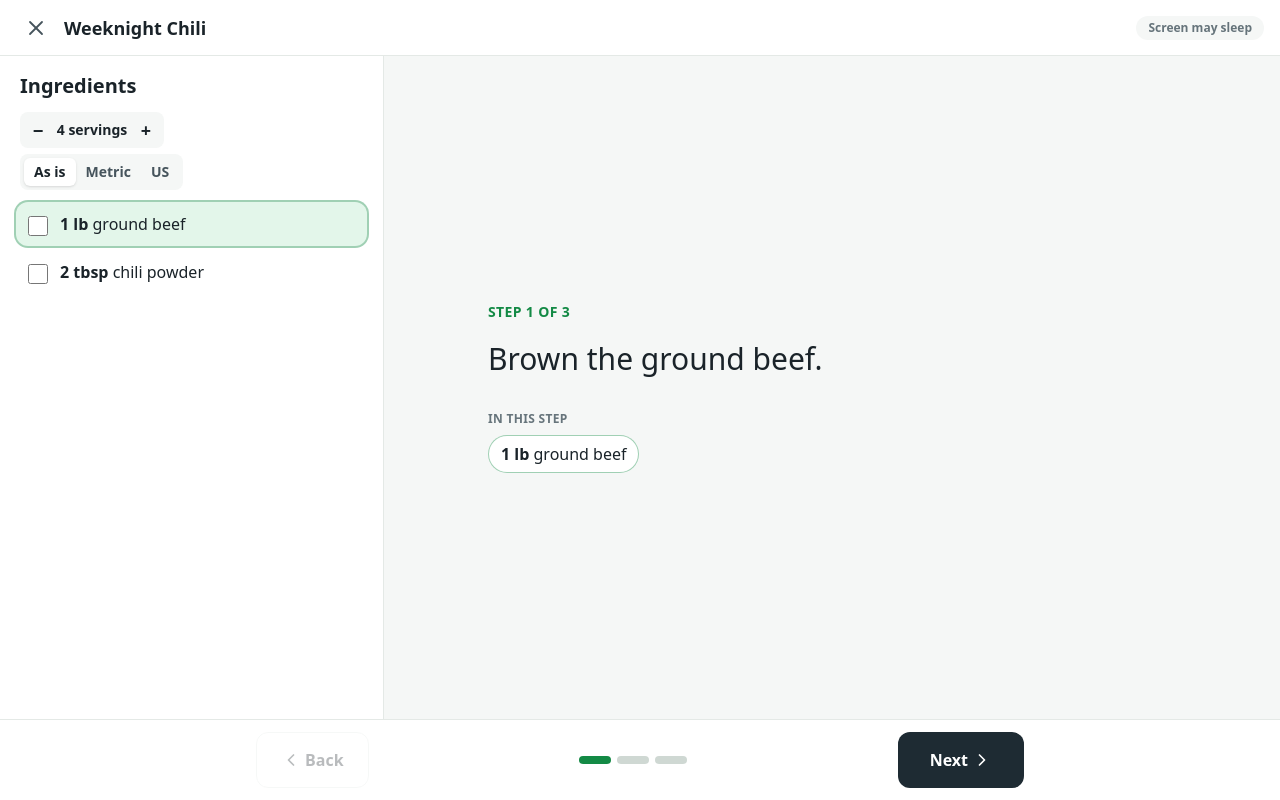
Test: Cook Mode › walks the steps with Next and Back, and Done shows the finish
expect the text "Step 1 of 3" is shown: met, box [488,302,570,321]
expect the text "Brown the ground beef." is shown: met, box [488,338,823,379]
Click the button "Next" at {"x": 961, "y": 760}, box [898,732,1024,788]
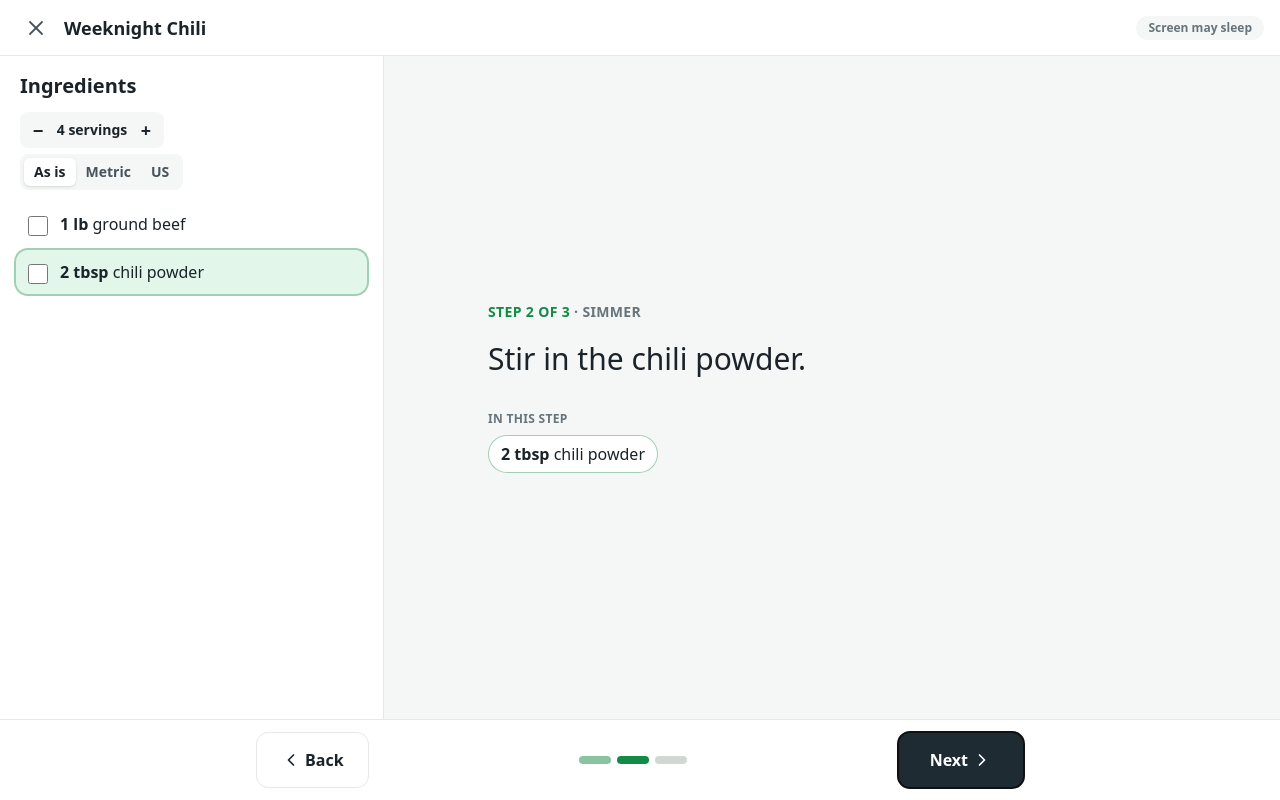
expect the text "Step 2 of 3 · Simmer" is shown: met, box [488,302,641,321]
Click the button "Back" at {"x": 312, "y": 760}, box [256,732,369,788]
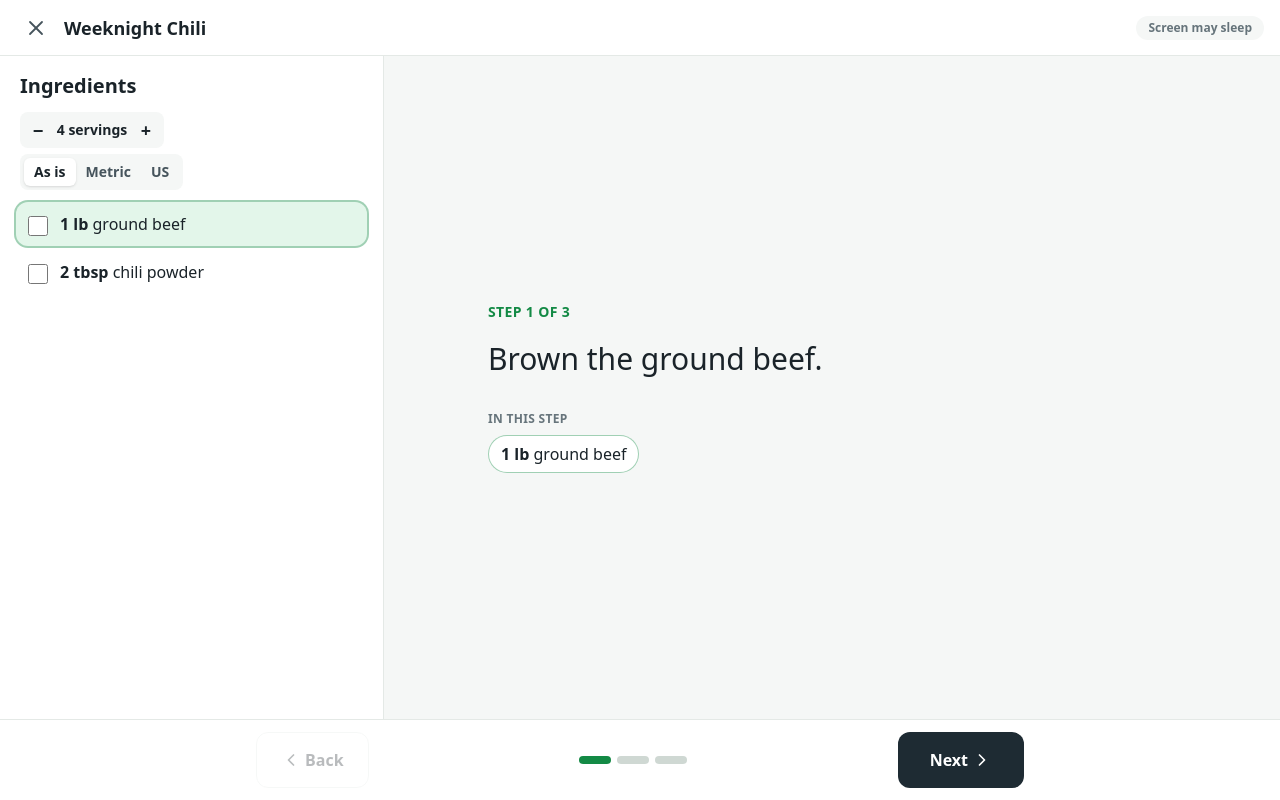
expect the text "Step 1 of 3" is shown: met, box [488,302,570,321]
Click the button "Next" at {"x": 961, "y": 760}, box [898,732,1024,788]
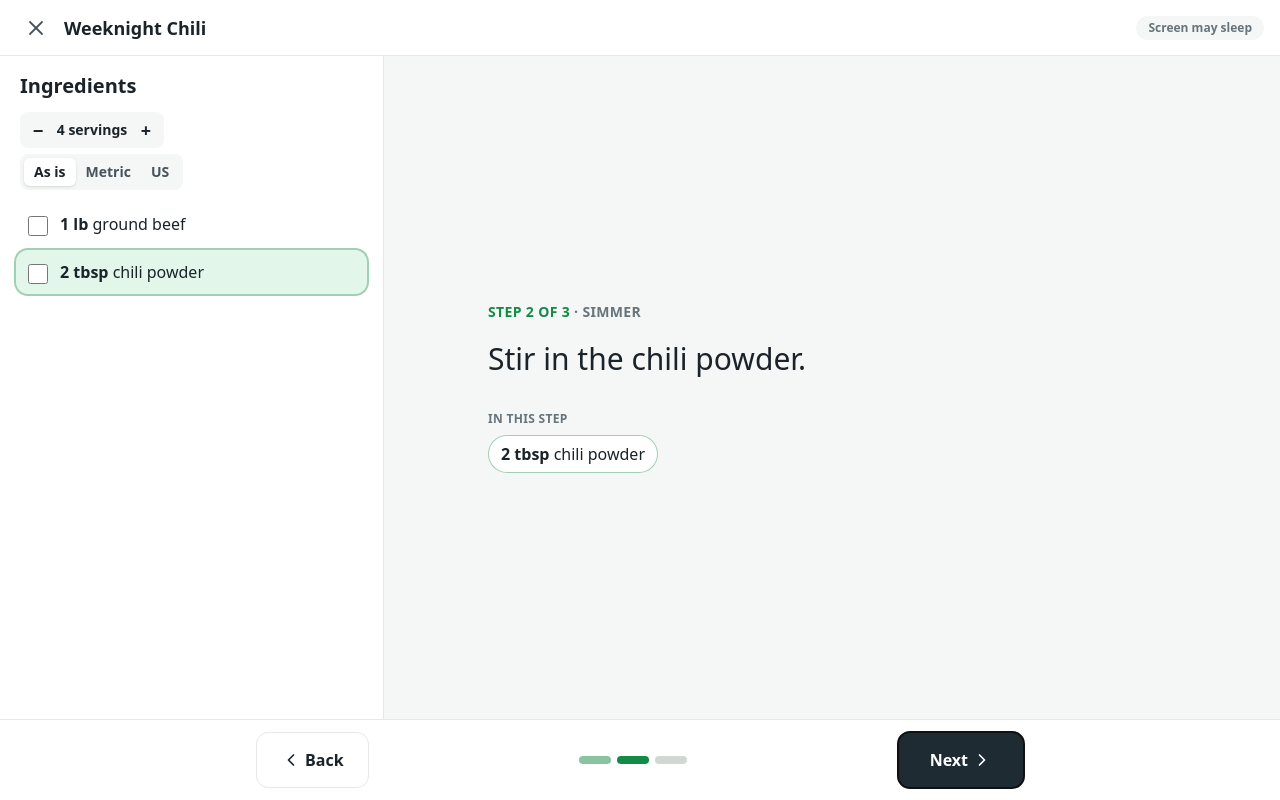
Click the button "Next" at {"x": 961, "y": 760}, box [898,732,1024,788]
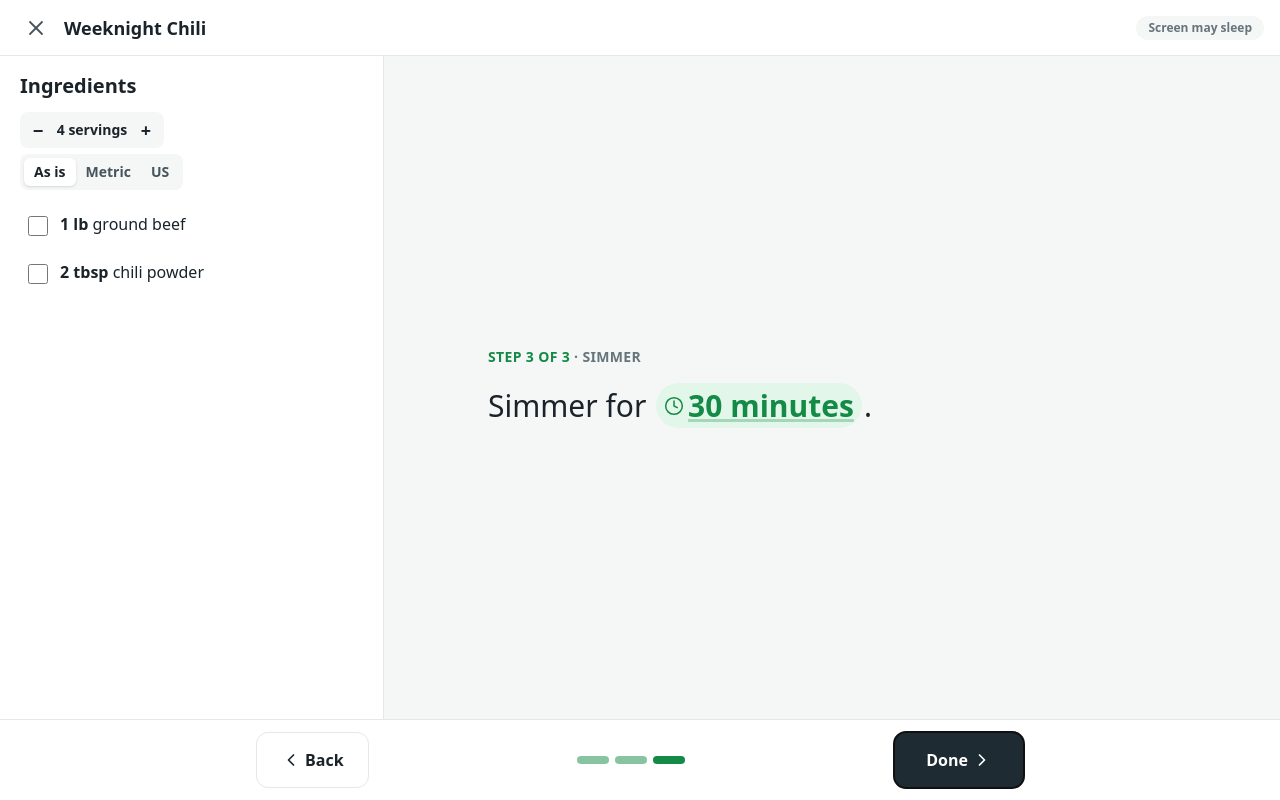
Click the button "Done" at {"x": 959, "y": 760}, box [894,732,1024,788]
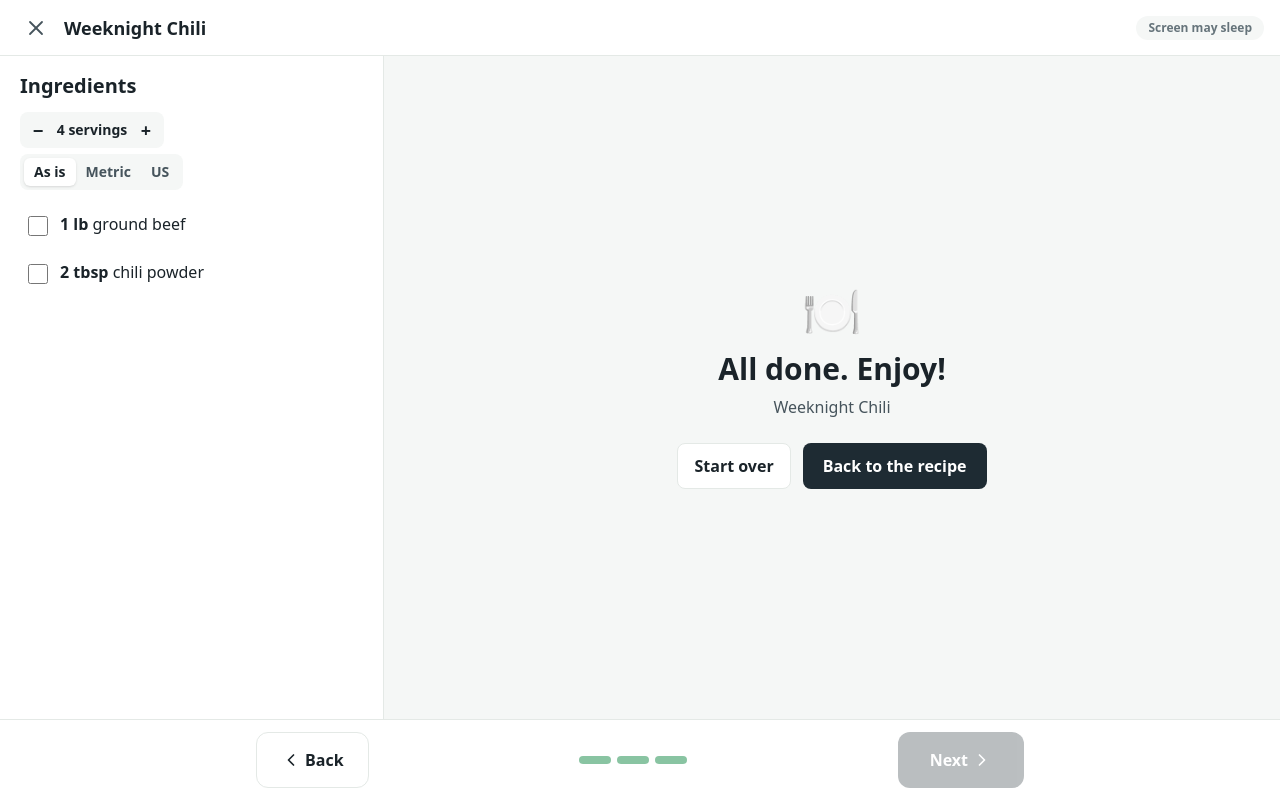
expect the heading "All done. Enjoy!" is shown: met, box [718,348,946,388]
